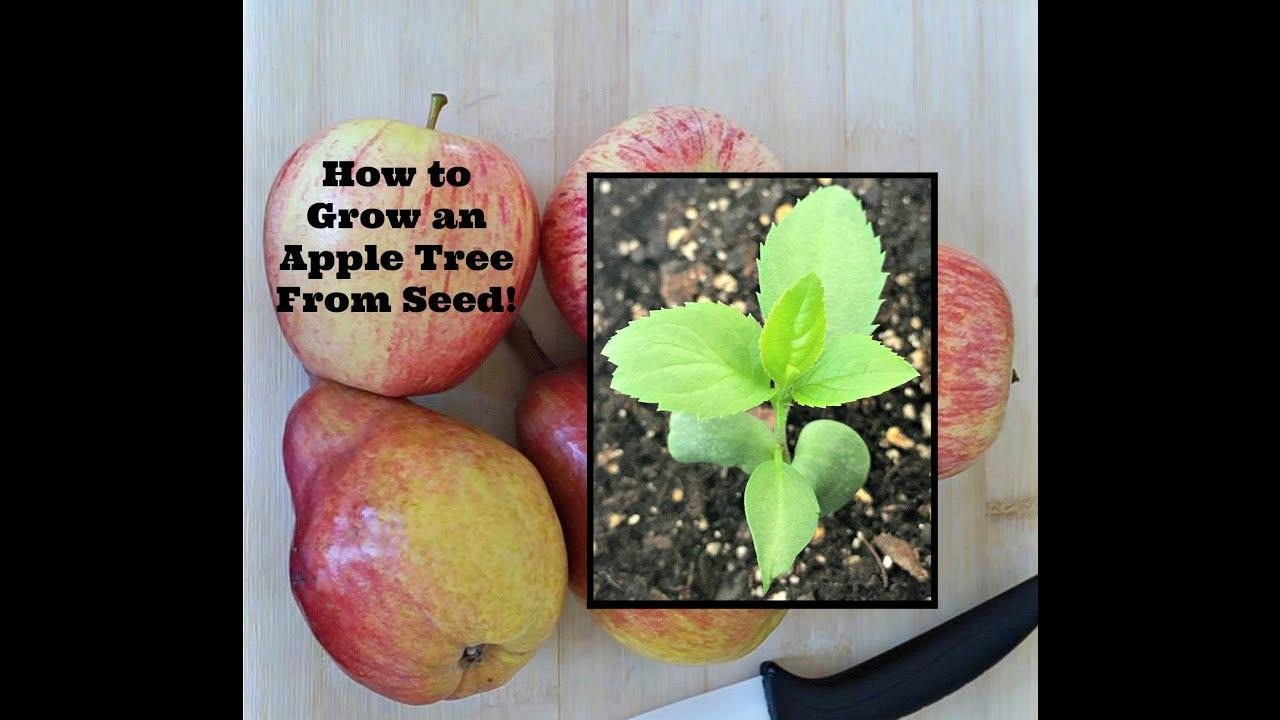apple: (264, 93, 543, 401), (276, 421, 574, 707), (533, 105, 795, 348)
